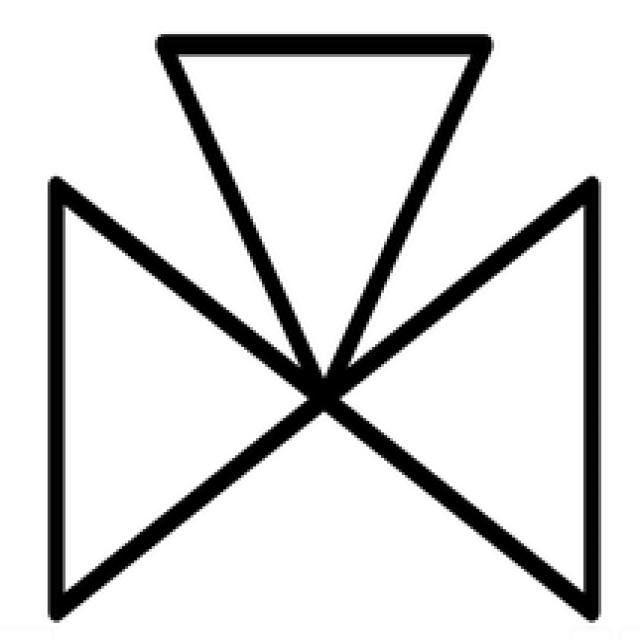3-way Valve: (54, 41, 489, 607), (331, 182, 594, 613)
